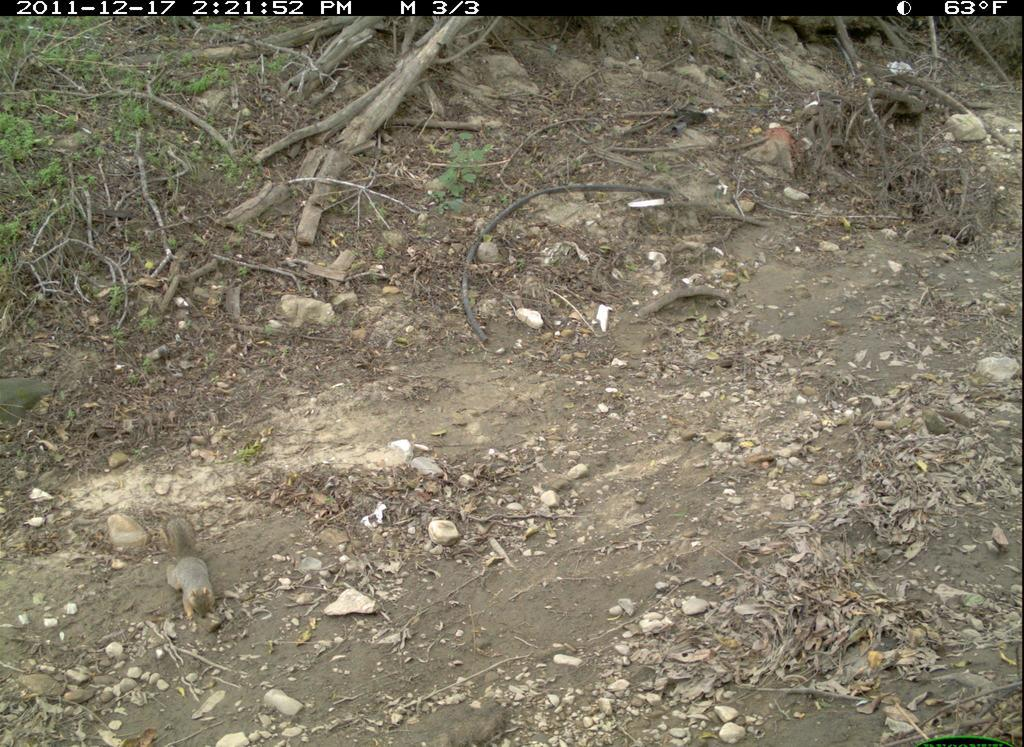squirrel: (158, 509, 225, 634)
